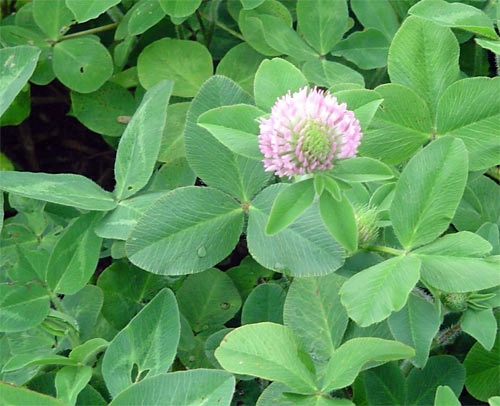clover: (123, 73, 347, 276), (336, 133, 500, 330), (356, 12, 500, 173)
clover blossom purple: (255, 85, 365, 181)
